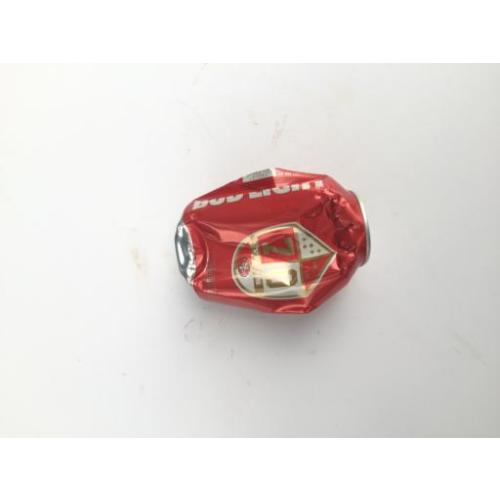metal: (177, 167, 371, 308)
